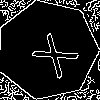X: (22, 25, 80, 80)
